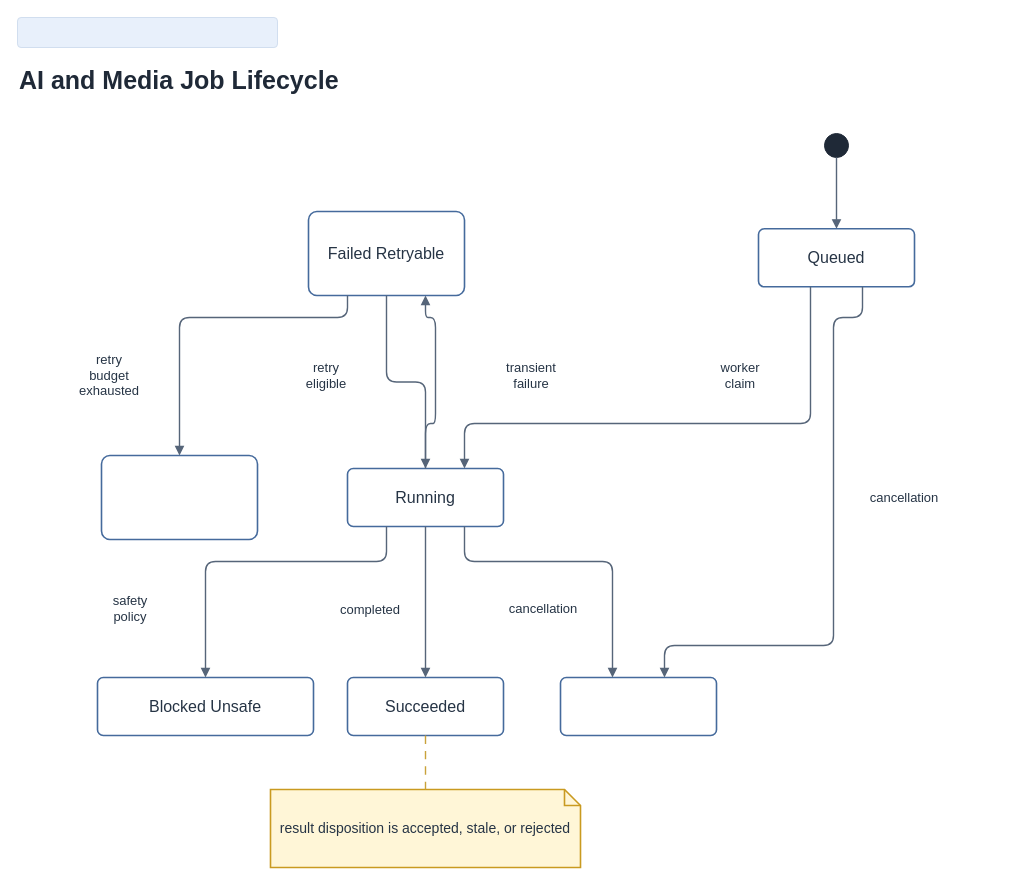
Image size: 1014x886. Some labels were removed from this diagram. Here are the shapes that lost their labels. From the top down, the centre of each, then its label:
At pixel 147 32: "STATE MACHINE DIAGRAM".
At pixel 179 497: "Failed Exhausted".
At pixel 638 706: "Cancelled".
